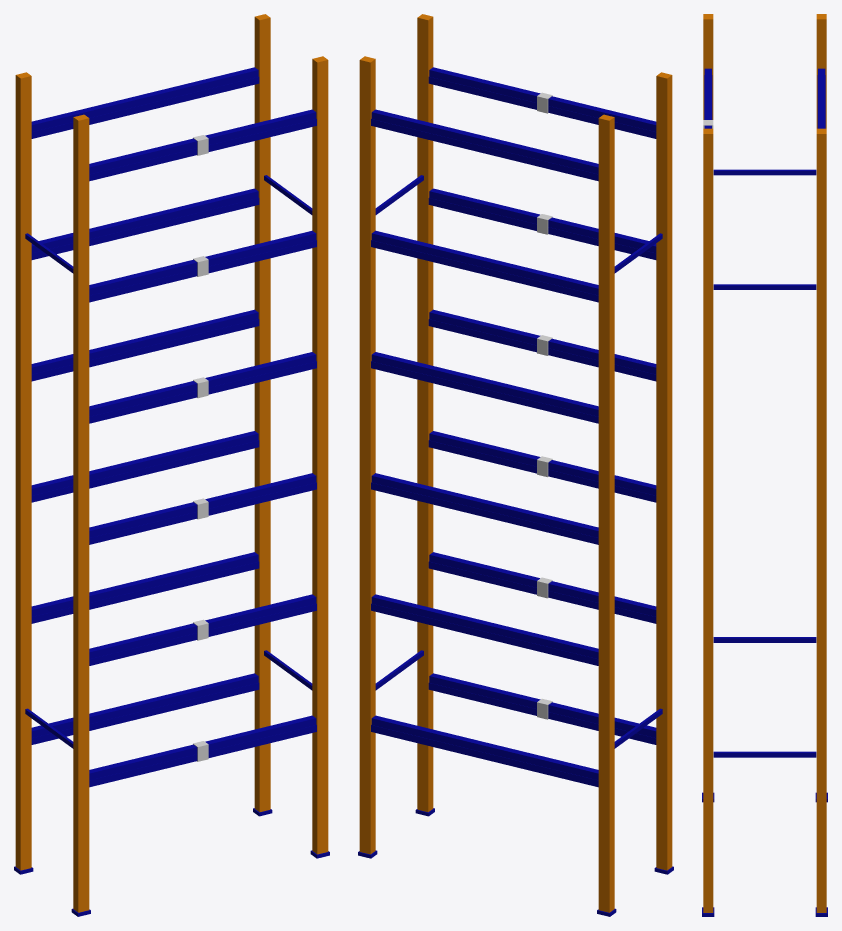
Rendered from high-duty-C23-6.glb.
3 views of the same model, side by side, from view 1: azimuth 30°, elevation 25°; view 2: azimuth 150°, elevation 25°; view 3: azimuth 270°, elevation 25° (orthographic).
Parts seen in each view (by area): view 1: part_0, part_4, part_2, part_6, part_35, part_13, part_8, part_18, part_23, part_28, part_33, part_15 (+16 smaller); view 2: part_4, part_0, part_6, part_2, part_10, part_15, part_20, part_25, part_30, part_35, part_33, part_18 (+16 smaller); view 3: part_2, part_6, part_4, part_0, part_40, part_39, part_38, part_41, part_35, part_33.
Boxes of the visible parts, bbox=[...] form: part_0: bbox=[73, 114, 89, 912]; part_4: bbox=[15, 72, 31, 870]; part_2: bbox=[312, 56, 328, 854]; part_6: bbox=[254, 14, 270, 812]; part_35: bbox=[31, 67, 258, 131]; part_13: bbox=[89, 594, 316, 658]; part_8: bbox=[89, 715, 316, 780]; part_18: bbox=[89, 473, 316, 537]; part_23: bbox=[89, 352, 316, 416]; part_28: bbox=[89, 230, 316, 295]; part_33: bbox=[89, 109, 316, 174]; part_15: bbox=[31, 552, 258, 616]; part_4: bbox=[598, 114, 614, 912]; part_0: bbox=[656, 72, 672, 870]; part_6: bbox=[359, 56, 375, 854]; part_2: bbox=[417, 14, 433, 812]; part_10: bbox=[371, 715, 598, 780]; part_15: bbox=[371, 594, 598, 658]; part_20: bbox=[371, 473, 598, 537]; part_25: bbox=[371, 352, 598, 416]; part_30: bbox=[371, 230, 598, 295]; part_35: bbox=[371, 109, 598, 174]; part_33: bbox=[429, 67, 656, 131]; part_18: bbox=[429, 431, 656, 495]; part_2: bbox=[703, 128, 713, 912]; part_6: bbox=[816, 128, 826, 912]; part_4: bbox=[816, 14, 826, 128]; part_0: bbox=[703, 14, 713, 119]; part_40: bbox=[713, 751, 816, 757]; part_39: bbox=[713, 169, 816, 175]; part_38: bbox=[713, 637, 816, 642]; part_41: bbox=[713, 284, 816, 289]; part_35: bbox=[818, 68, 825, 128]; part_33: bbox=[704, 68, 711, 128].
Size of the model in its own units: 2320 by 7000 by 1020.
